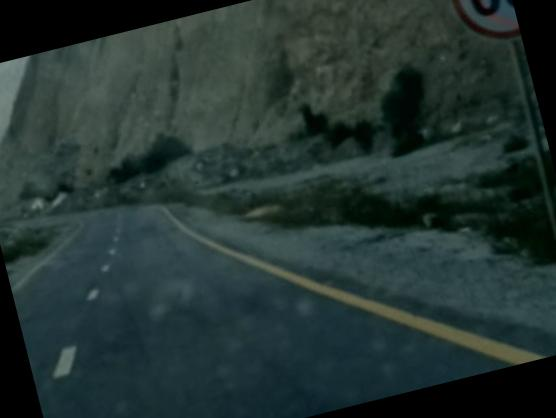right_turn: (0, 145, 221, 311)
sharp_turn: (1, 192, 281, 418)
